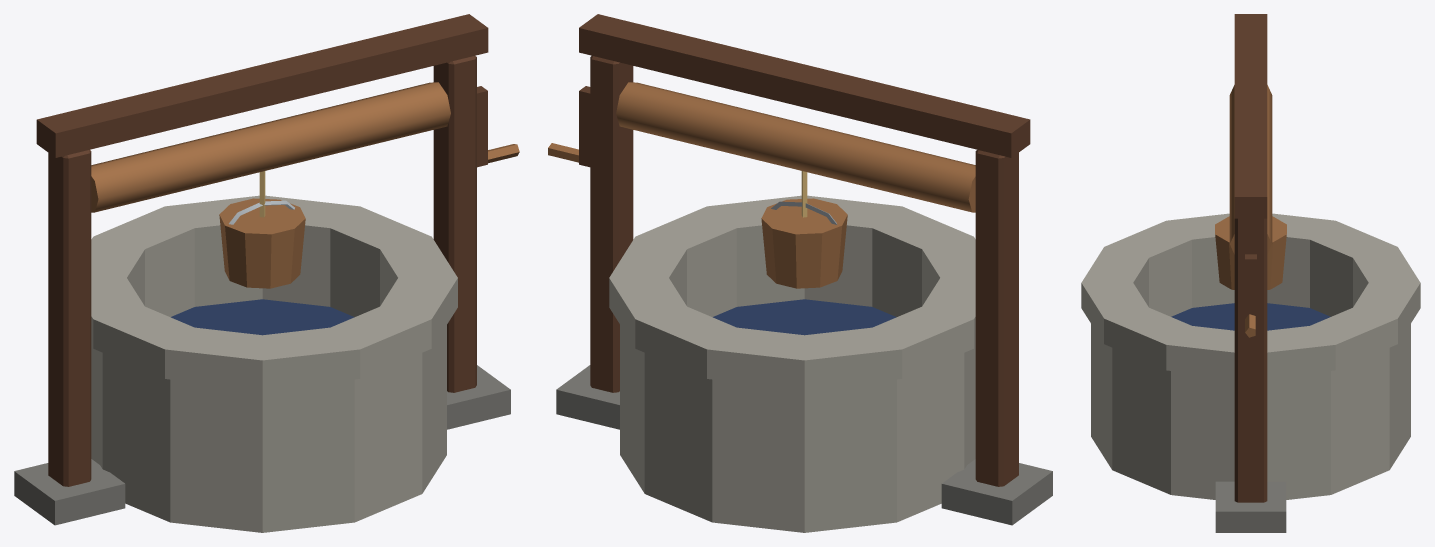
File: stone_well.glb
3 renders of one model, left to right at view 1: azimuth 30°, elevation 25°; view 2: azimuth 150°, elevation 25°; view 3: azimuth 270°, elevation 25°, orthographic. The views are drawn at different scales.
Visible parts, largest first — view 1: stone_well; view 2: stone_well; view 3: stone_well.
Part boxes in pixels (bbox=[...]): stone_well: bbox=[14, 14, 519, 532]; stone_well: bbox=[548, 14, 1052, 532]; stone_well: bbox=[1081, 14, 1420, 532].
Bounding box in the file's own units: 2.05 × 1.55 × 1.44.
